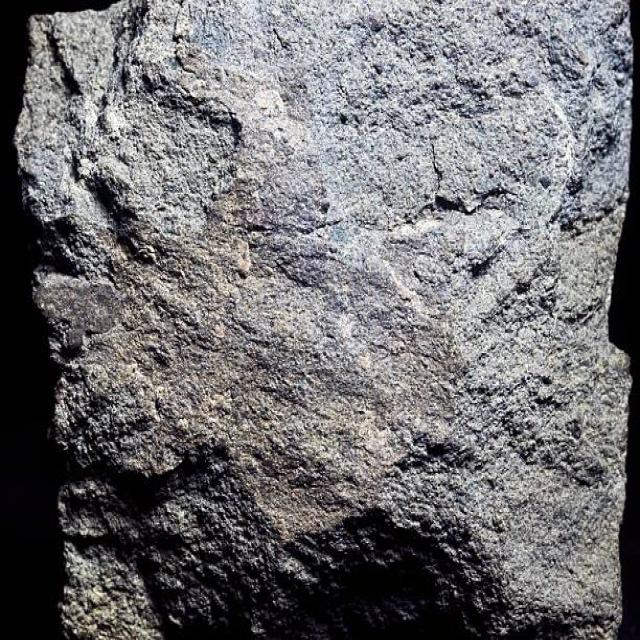Sedimentary: (19, 1, 635, 639)
